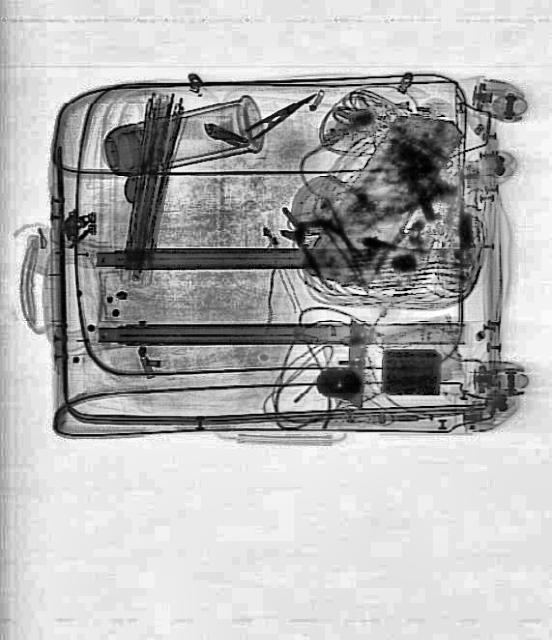Pliers: (260, 196, 362, 290), (241, 85, 319, 141)
